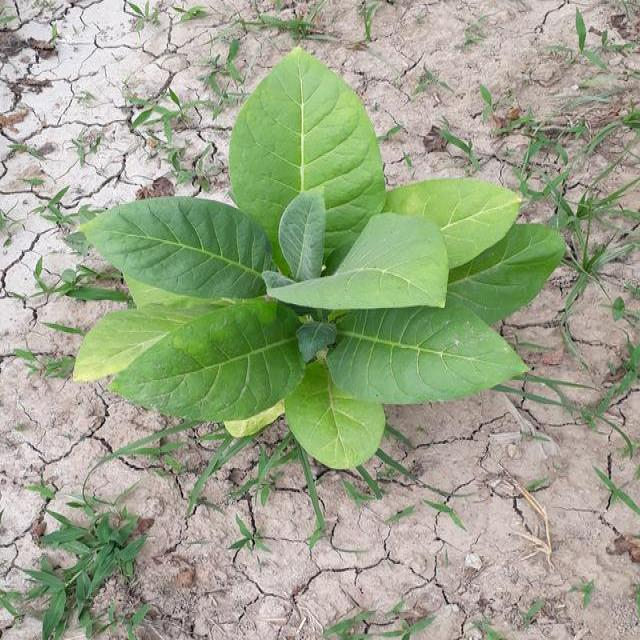crop: (94, 79, 547, 464)
